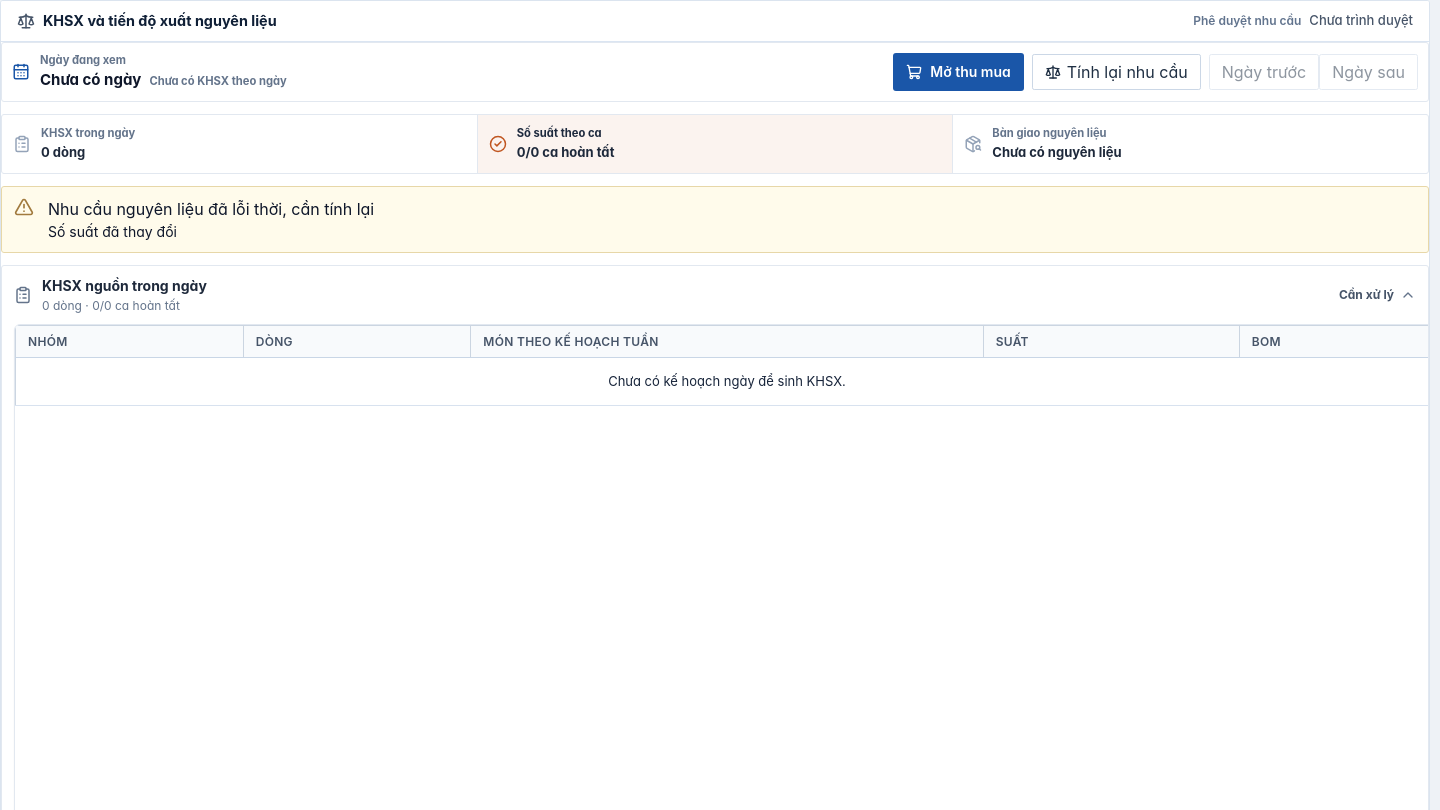
Test: MaterialDemandSection — xác nhận tính lại nhu cầu đã duyệt › không tính lại khi hủy xác nhận
This screenshot has width=1440, height=810.
Click the button "Tính lại nhu cầu": (1116,72) [1032,54,1201,90]
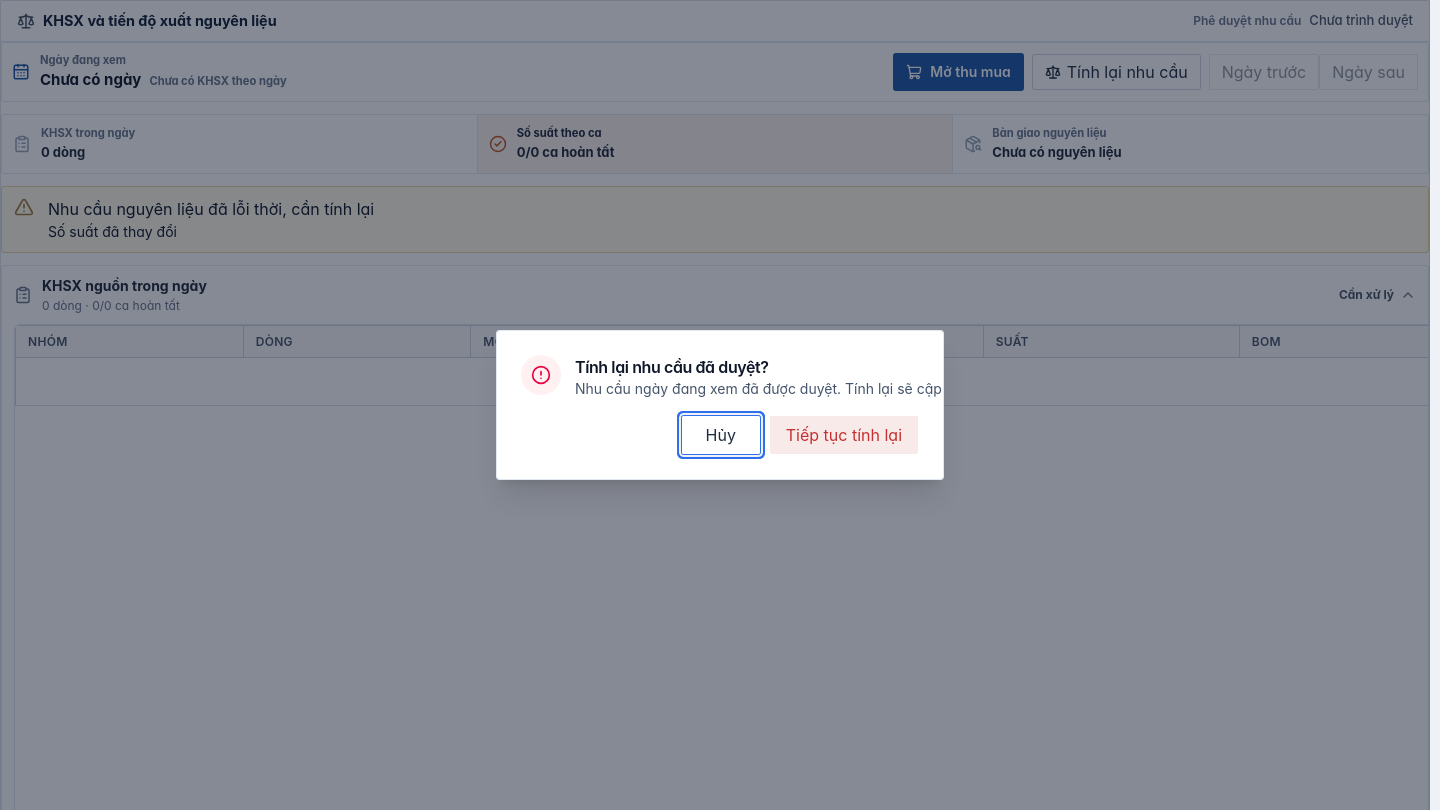
Click the button "Hủy": (721,435) [681,415,761,455]
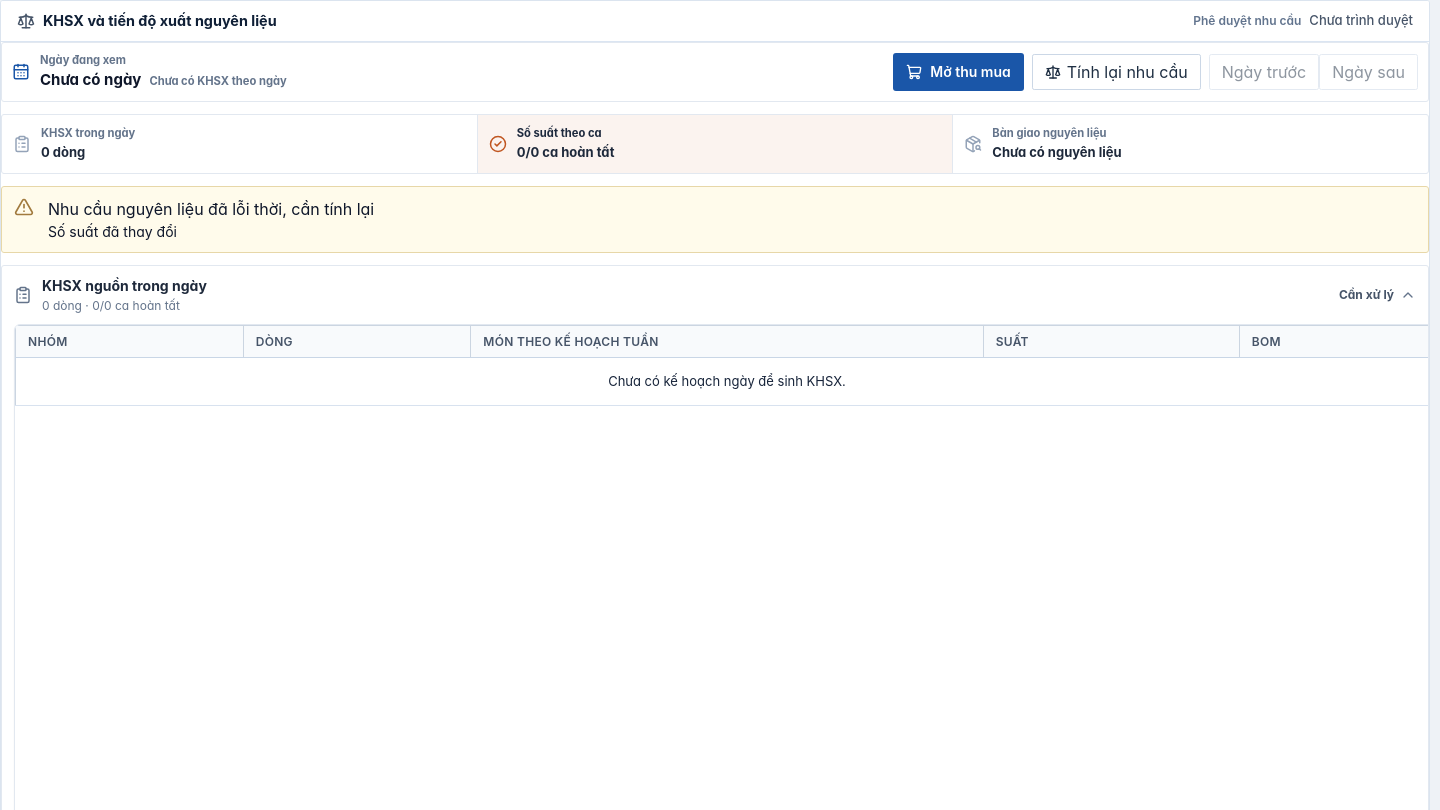
Check: the dialog is gone
